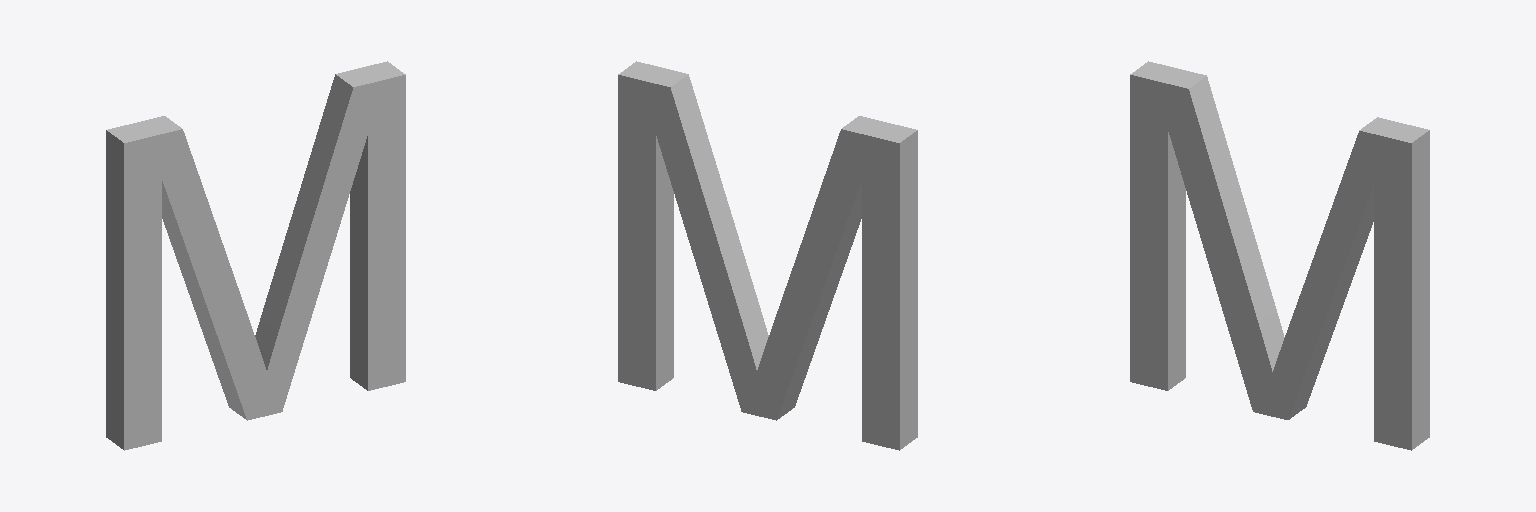
3 renders of one model, left to right at view 1: azimuth 30°, elevation 25°; view 2: azimuth 150°, elevation 25°; view 3: azimuth 330°, elevation 25°, orthographic.
Parts seen in each view (by area): view 1: TextMesh#0; view 2: TextMesh#0; view 3: TextMesh#0.
Part boxes in pixels (left/top/right/bottom): TextMesh#0: left=106, top=61, right=405, bottom=450; TextMesh#0: left=618, top=61, right=917, bottom=450; TextMesh#0: left=1130, top=61, right=1429, bottom=450.
Bounding box in the file's own units: 8.91 × 9.31 × 1.